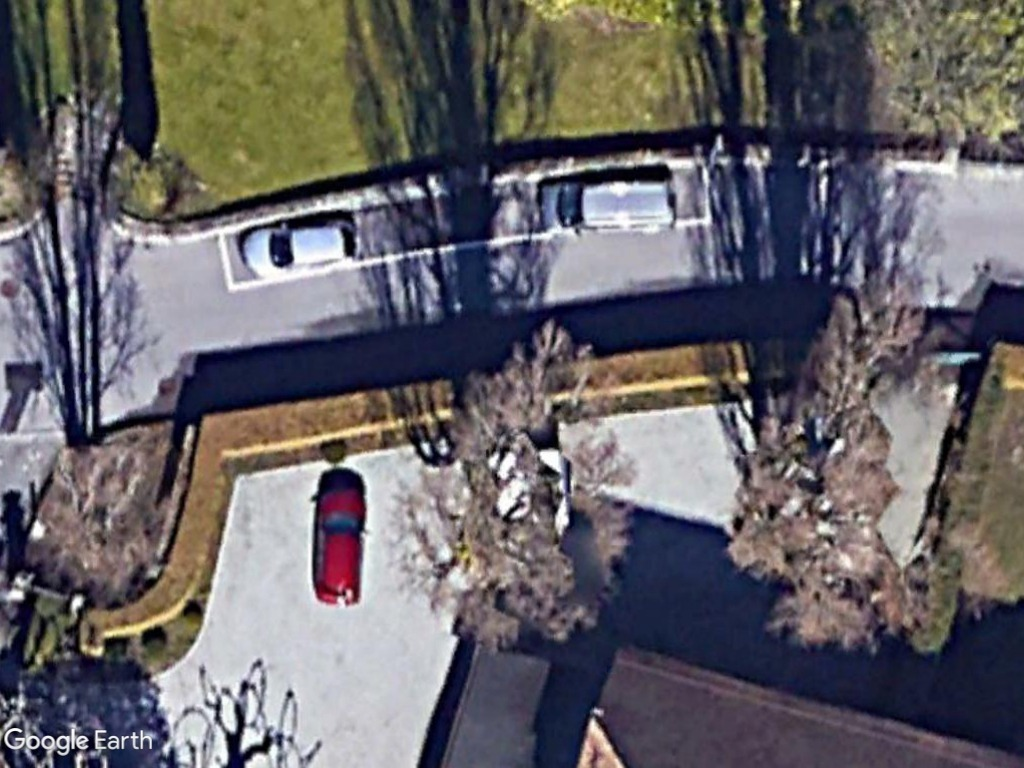car: (240, 214, 365, 282), (311, 483, 369, 611)
van: (535, 173, 683, 239)
